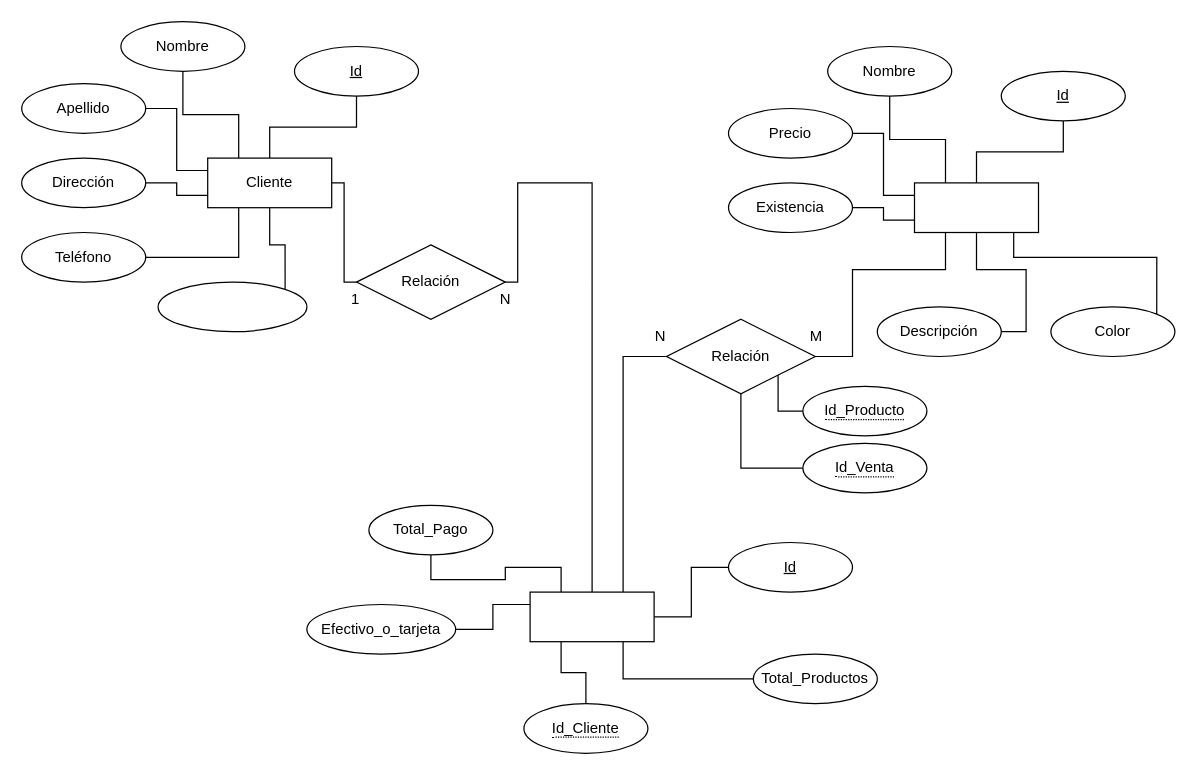
This 1197x775 diagram has some shape labels left out. The centre of each missing label's shape, as x and y in pixels:
Correo_Electrónico: [232,306]
Pedido: [591,616]
Producto: [975,207]
